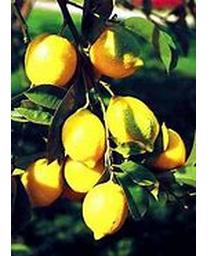lemon: (105, 96, 160, 152), (24, 32, 75, 88), (82, 181, 128, 241), (63, 110, 106, 168), (20, 159, 65, 208)
